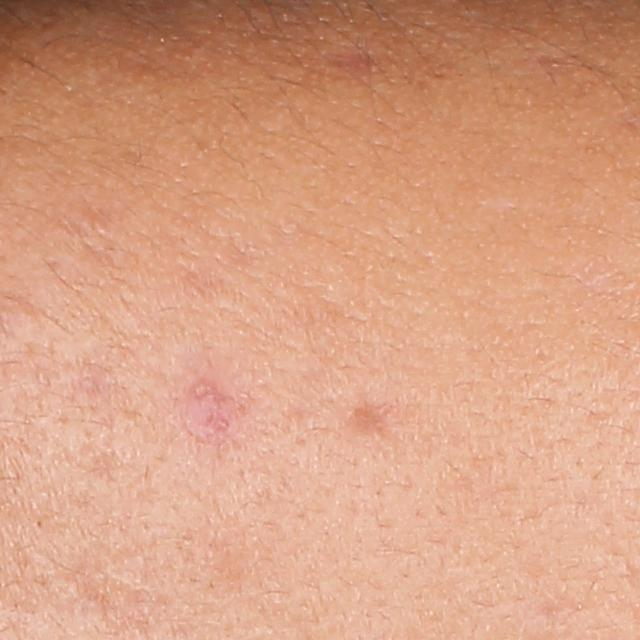atrophic_scar: (339, 392, 404, 446)
papule: (168, 373, 236, 443)
